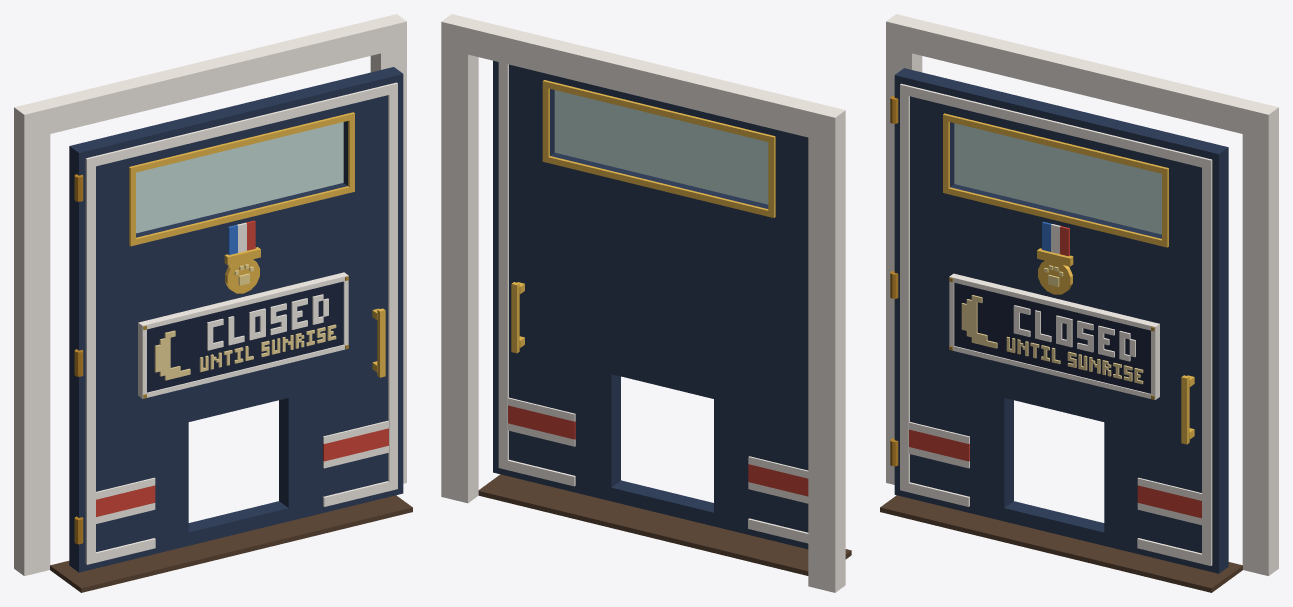
Rendered from CatCafe_Door_Medal_Back.glb.
The picture shows the model from 3 angles, left to right: view 1: azimuth 30°, elevation 25°; view 2: azimuth 150°, elevation 25°; view 3: azimuth 330°, elevation 25°; orthographic projection. The views are drawn at different scales.
Parts seen in each view (by area): view 1: CatCafe_Door_Medal_Back_Leaf, CatCafe_Door_Medal_Back, CatCafe_Door_Medal_Back_Sign, CatCafe_Door_Medal_Back_Leaf_Glass, CatCafe_Door_Medal_Back_Sign_Bulb; view 2: CatCafe_Door_Medal_Back_Leaf, CatCafe_Door_Medal_Back, CatCafe_Door_Medal_Back_Leaf_Glass; view 3: CatCafe_Door_Medal_Back_Leaf, CatCafe_Door_Medal_Back, CatCafe_Door_Medal_Back_Sign, CatCafe_Door_Medal_Back_Leaf_Glass, CatCafe_Door_Medal_Back_Sign_Bulb.
Part boxes in pixels (box(x1,y1,x2,y2)): CatCafe_Door_Medal_Back_Leaf: box(69, 67, 403, 572); CatCafe_Door_Medal_Back: box(14, 14, 412, 592); CatCafe_Door_Medal_Back_Sign: box(138, 272, 348, 398); CatCafe_Door_Medal_Back_Leaf_Glass: box(136, 122, 343, 233); CatCafe_Door_Medal_Back_Sign_Bulb: box(154, 324, 336, 380); CatCafe_Door_Medal_Back_Leaf: box(493, 60, 808, 549); CatCafe_Door_Medal_Back: box(441, 14, 851, 592); CatCafe_Door_Medal_Back_Leaf_Glass: box(554, 90, 768, 204); CatCafe_Door_Medal_Back_Leaf: box(890, 68, 1228, 573); CatCafe_Door_Medal_Back: box(880, 14, 1278, 592); CatCafe_Door_Medal_Back_Sign: box(949, 273, 1159, 399); CatCafe_Door_Medal_Back_Leaf_Glass: box(954, 123, 1161, 234); CatCafe_Door_Medal_Back_Sign_Bulb: box(961, 295, 1143, 384).
Bounding box in the file's own units: 6.9 × 7.95 × 1.3.
1 material, 1 textured.
